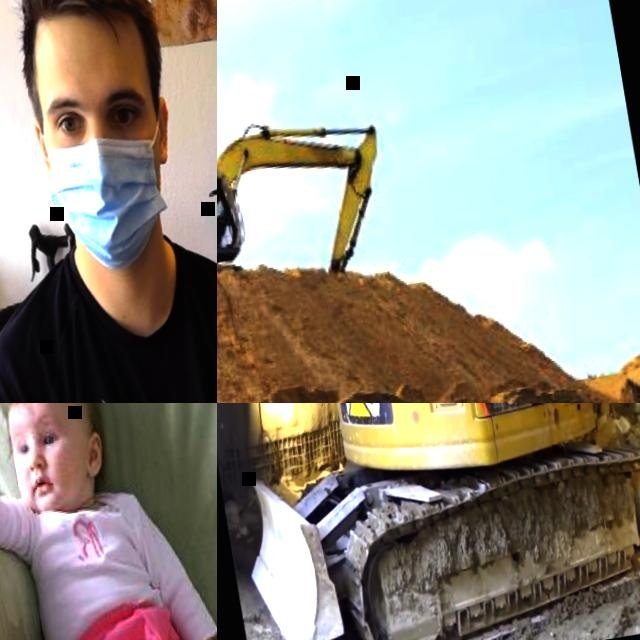Mask: (37, 100, 193, 282)
NO-Hardhat: (10, 0, 155, 39), (0, 403, 93, 425)
NO-Mask: (19, 466, 79, 515)
NO-Safety Vest: (2, 224, 217, 403), (25, 496, 163, 640)
Person: (0, 0, 217, 403), (0, 403, 217, 640)
machinery: (217, 403, 640, 640), (217, 102, 397, 312)
